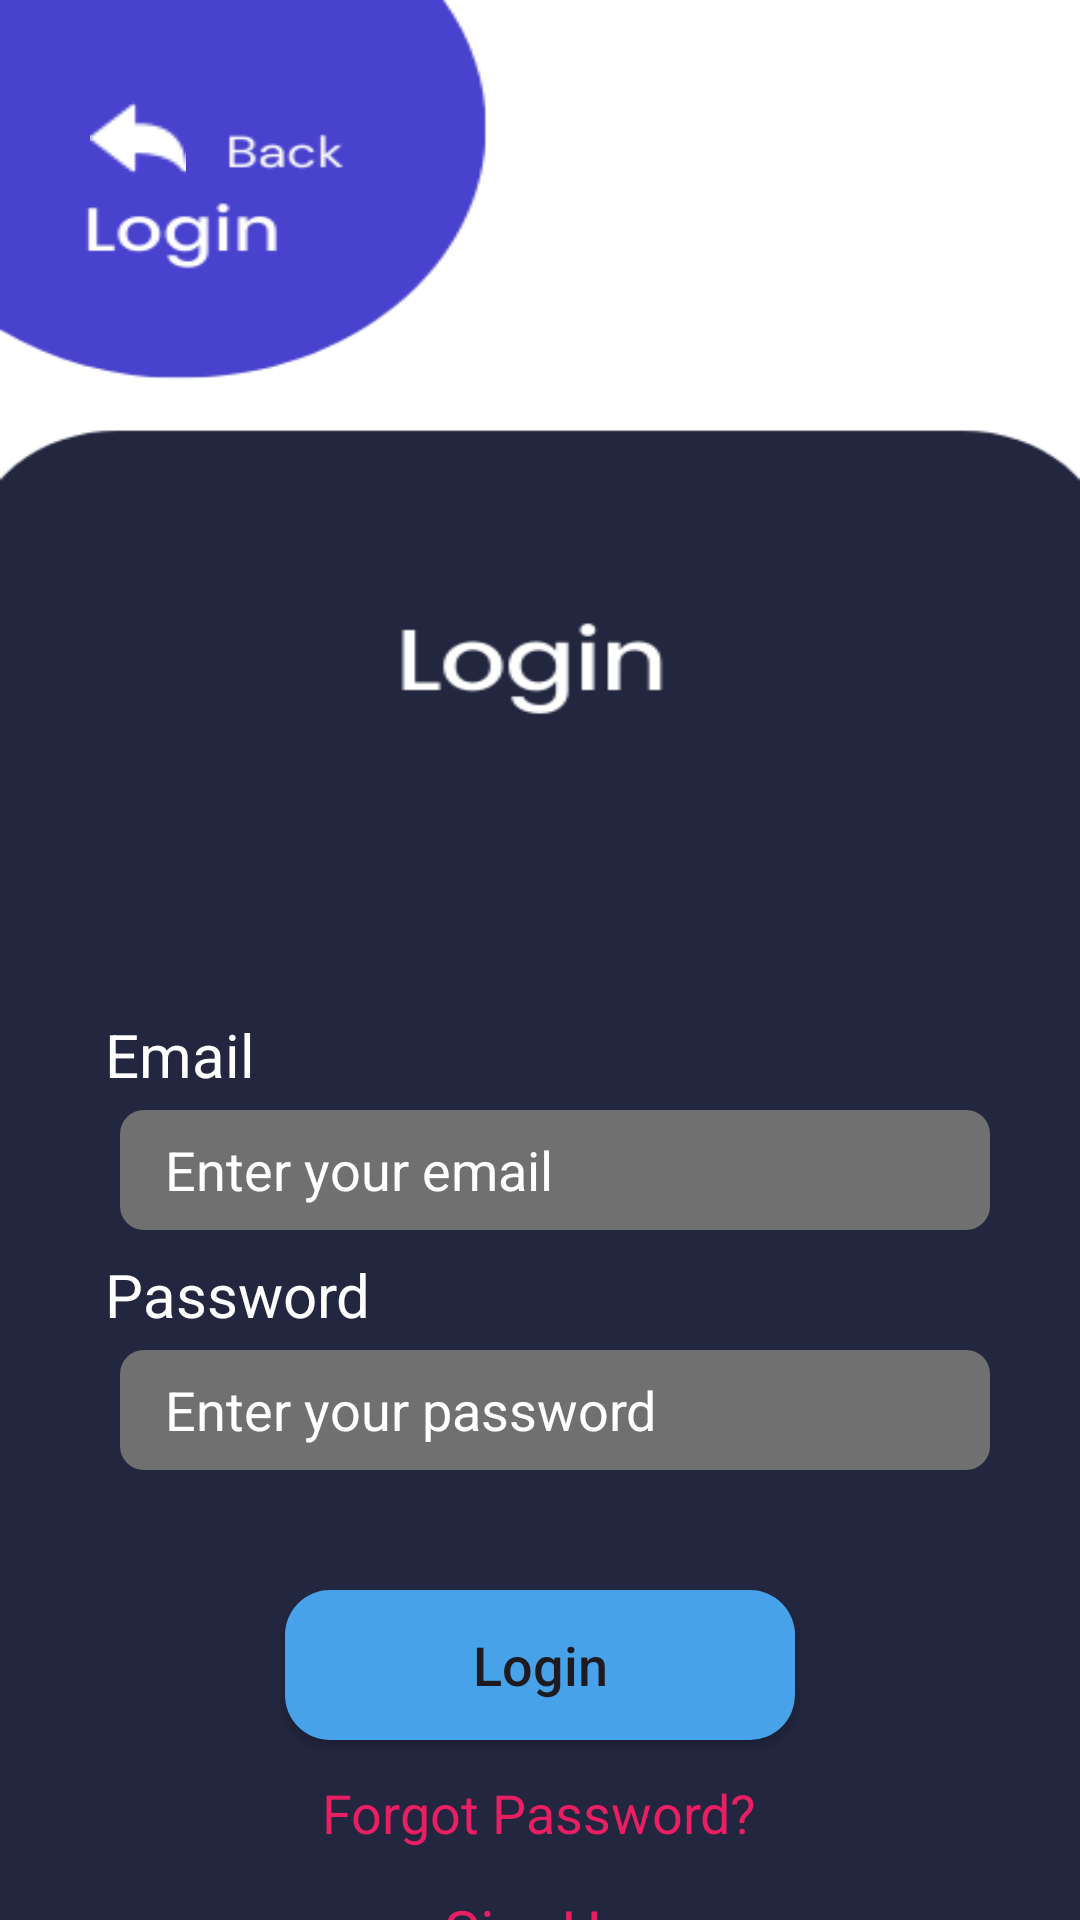

Icons on this 1080 x 1920 Android screen, each with the point to tap as point (x, y):
back: point (138, 138)
